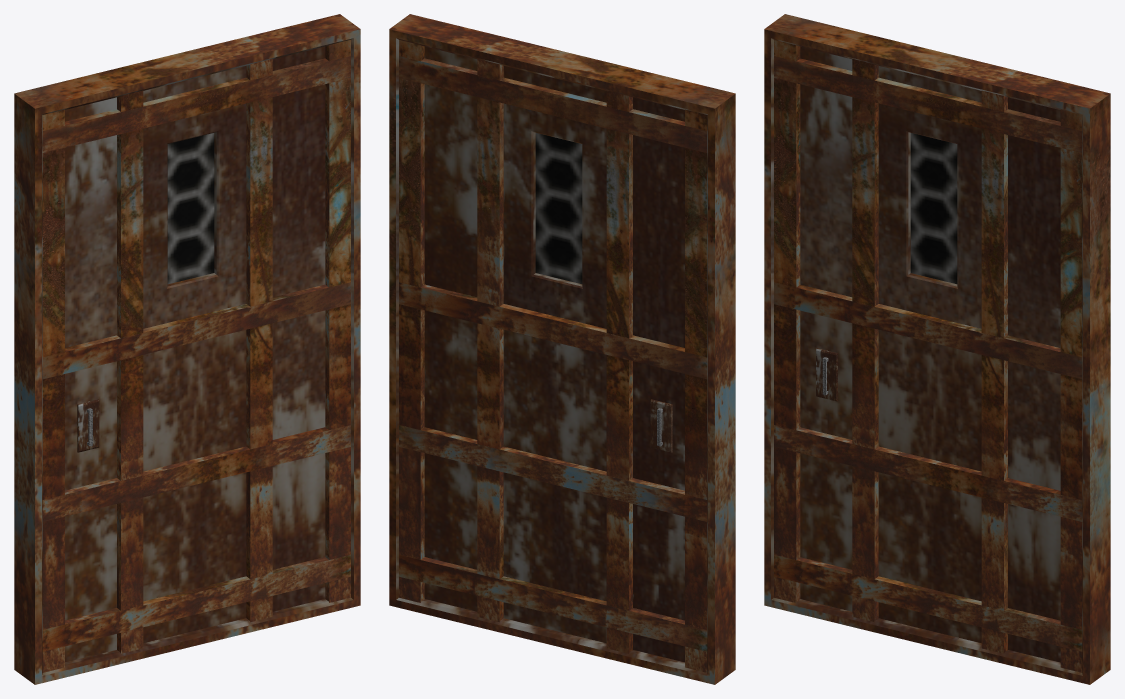
Rendered from Door.fbx.
The picture shows the model from 3 angles, left to right: view 1: azimuth 30°, elevation 25°; view 2: azimuth 150°, elevation 25°; view 3: azimuth 330°, elevation 25°; orthographic projection.
Visible parts, largest first — view 1: Door.001; view 2: Door.001; view 3: Door.001.
Part boxes in pixels (x1,y1,x2,y2): Door.001: (14,14,360,684); Door.001: (389,14,735,684); Door.001: (764,14,1110,684).
Bounding box in the file's own units: 129 × 218 × 14.29.
Materials: 5 (5 with a texture image).
